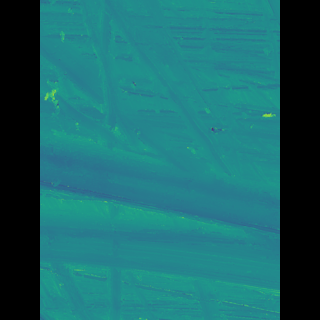Loch: (70, 17, 248, 293)
